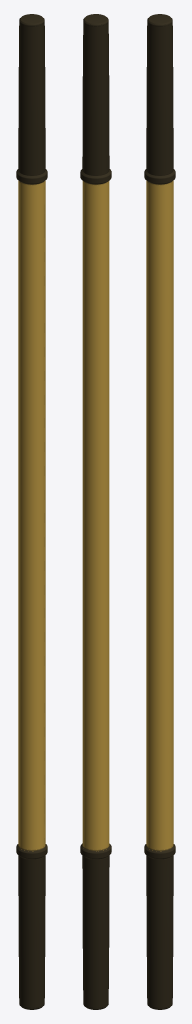
Rendered from armaWukong.obj.
3 renders of one model, left to right at view 1: azimuth 90°, elevation 25°; view 2: azimuth 150°, elevation 25°; view 3: azimuth 270°, elevation 25°, orthographic.
Visible parts, largest first — view 1: stick Geometry Group; view 2: stick Geometry Group; view 3: stick Geometry Group.
Boxes of the visible parts, x1,y1,x2,y2 form: stick Geometry Group: (16,14,47,1009); stick Geometry Group: (80,14,111,1009); stick Geometry Group: (144,14,175,1009).
Size of the model in its own units: 0.2428 by 8.41 by 0.2428.
1 material, 1 textured.
